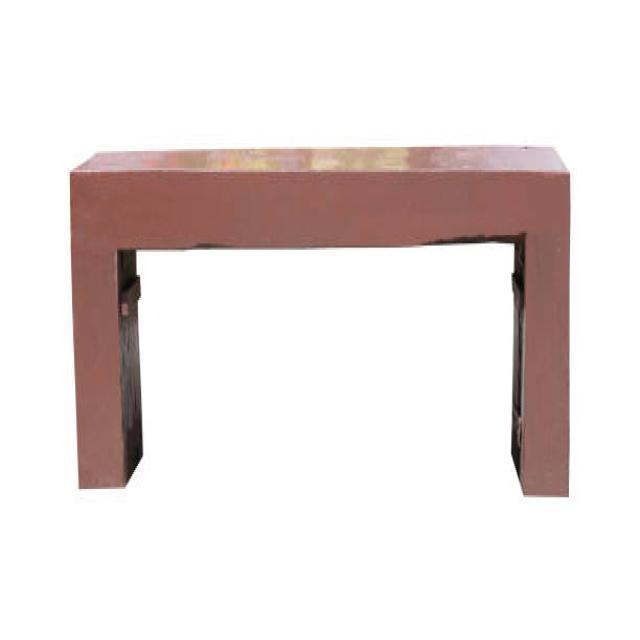table: (69, 142, 571, 498)
